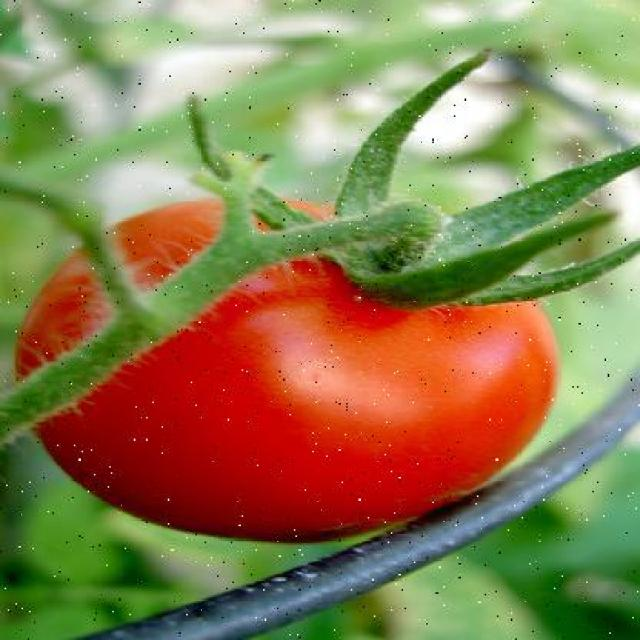tomato: (18, 200, 557, 542)
